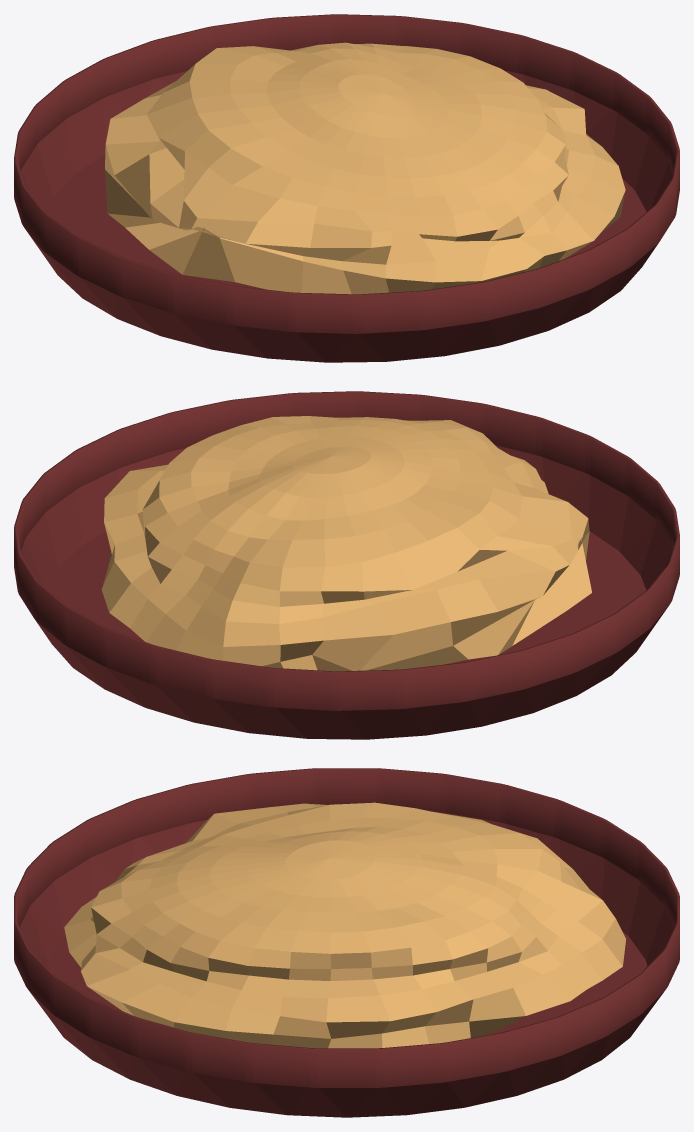
File: Ayam Gilling (2).fbx
3 views of the same model, one above another, from view 1: azimuth 30°, elevation 25°; view 2: azimuth 150°, elevation 25°; view 3: azimuth 270°, elevation 25° (orthographic).
Visible parts, largest first — view 1: Sphere, Cylinder; view 2: Sphere, Cylinder; view 3: Sphere, Cylinder.
Part boxes in pixels (left/top/right/bottom): Sphere: left=105, top=42, right=625, bottom=294; Cylinder: left=14, top=14, right=679, bottom=362; Sphere: left=101, top=416, right=591, bottom=671; Cylinder: left=14, top=391, right=679, bottom=739; Sphere: left=64, top=802, right=625, bottom=1048; Cylinder: left=14, top=768, right=679, bottom=1117.
Bounding box in the file's own units: 198 × 47.43 × 198.
